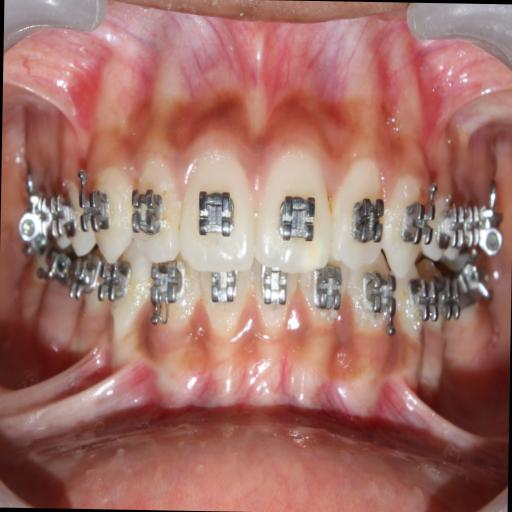correct_brace: (274, 188, 320, 250), (189, 184, 239, 241), (348, 192, 388, 246), (129, 185, 164, 241), (75, 183, 111, 236), (402, 202, 436, 248)
incorrect_brace: (334, 162, 387, 266), (132, 154, 180, 265)
